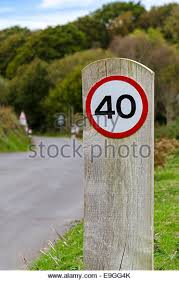Speed_limit_40km: (86, 76, 148, 139)
